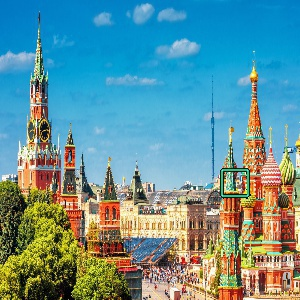square: (218, 167, 251, 199)
